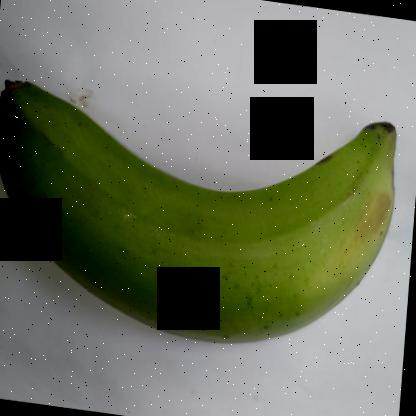freshunripe: (1, 76, 406, 349)
